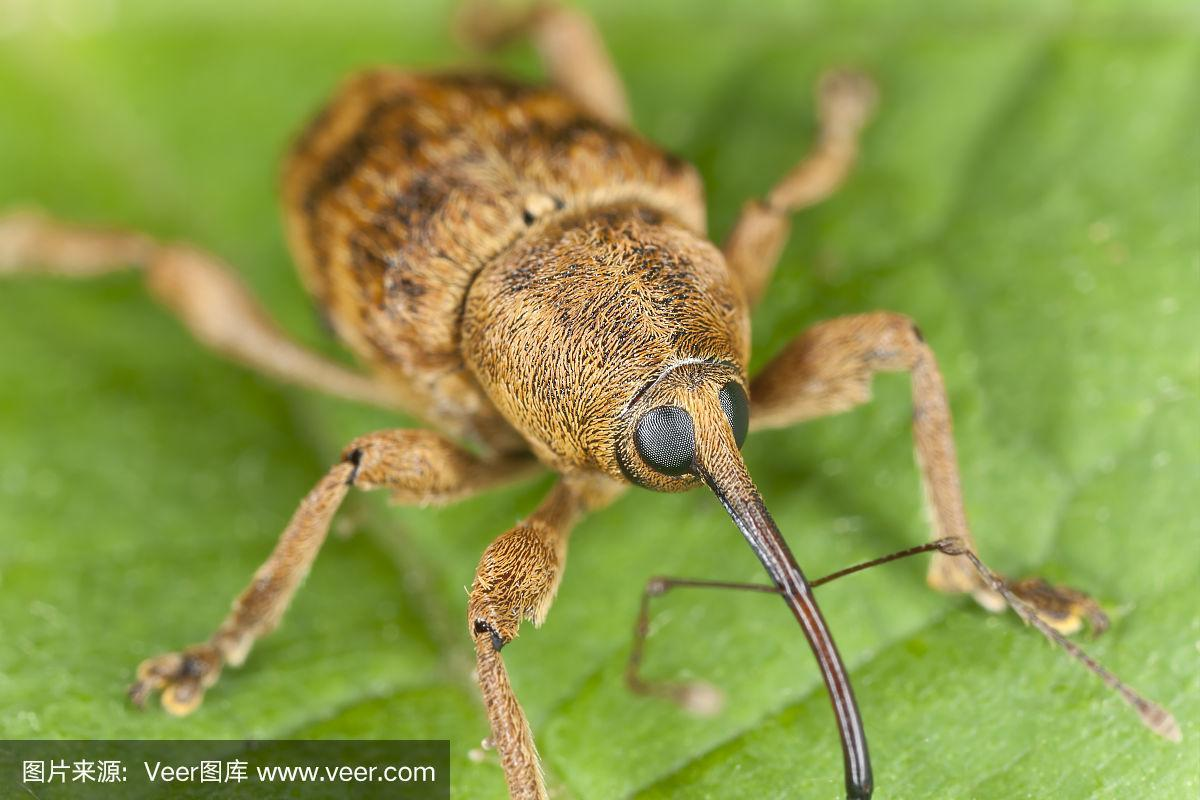Curculionidae: (6, 2, 1179, 800)
